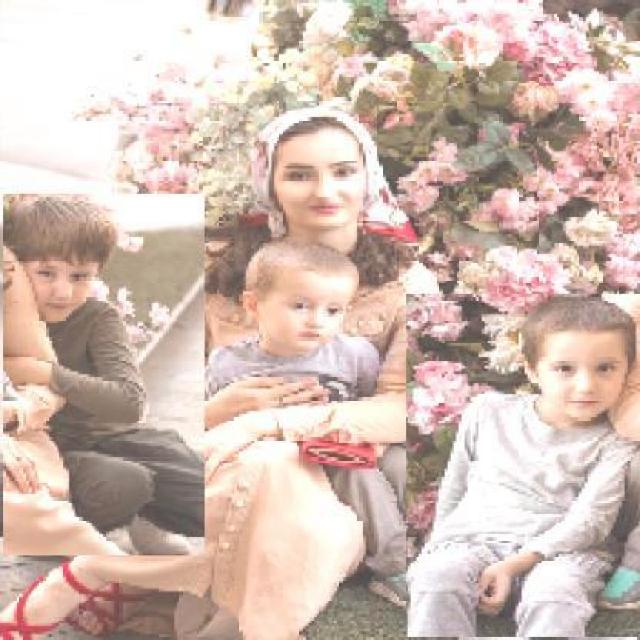child: (190, 238, 447, 612), (405, 293, 640, 638), (2, 194, 205, 557)
